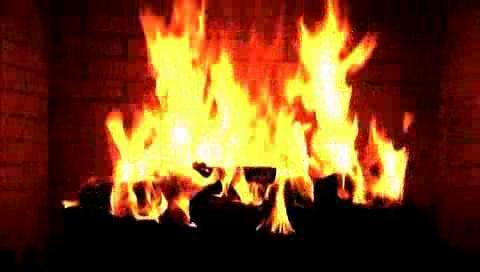fire: (92, 0, 441, 231)
